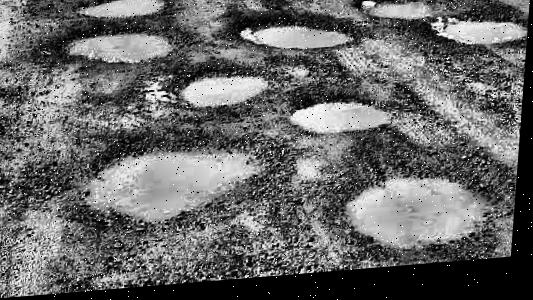pothole: (70, 133, 279, 236), (334, 169, 501, 265), (57, 21, 186, 72), (232, 11, 360, 61), (285, 96, 394, 143), (176, 66, 271, 113), (433, 18, 529, 58), (362, 1, 442, 31), (71, 0, 169, 22)
